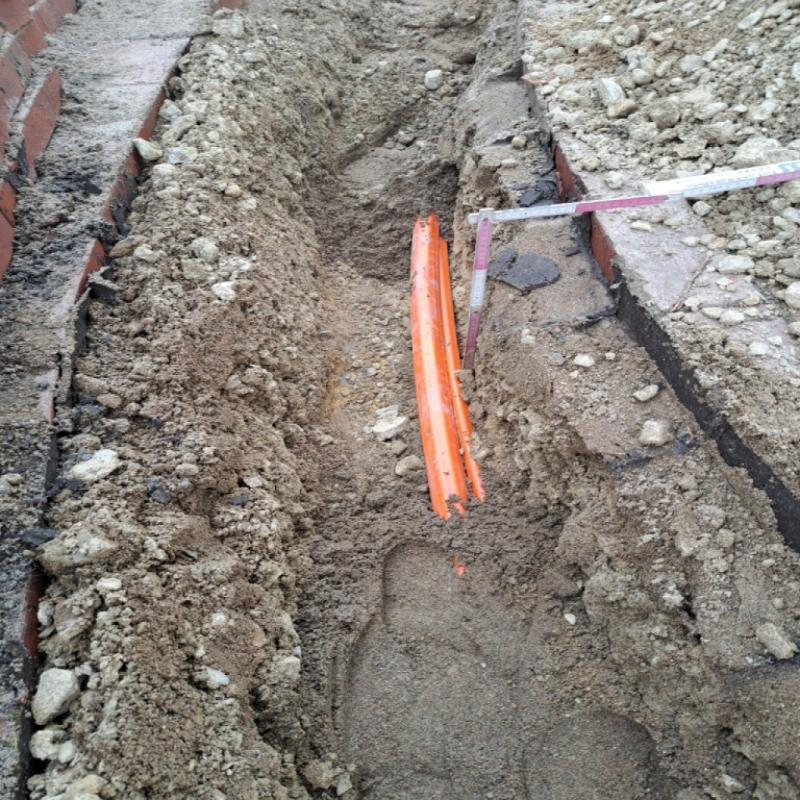Orang-Speednetrohrchen: (404, 215, 480, 510)
